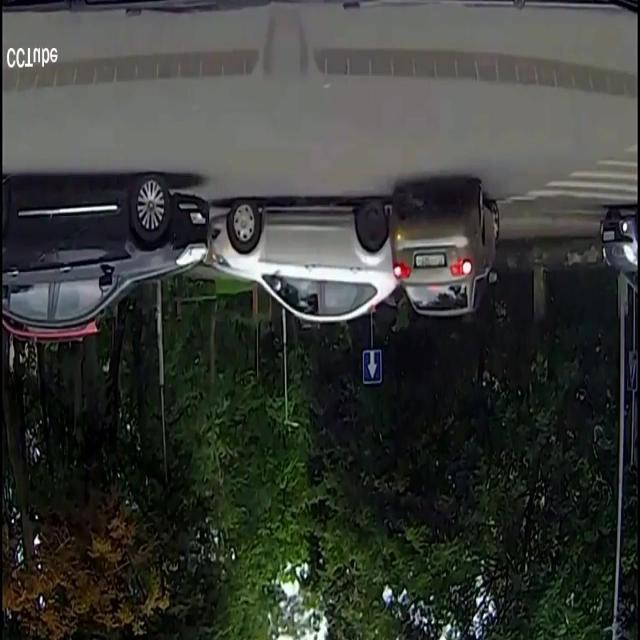moderate: (208, 179, 502, 332)
